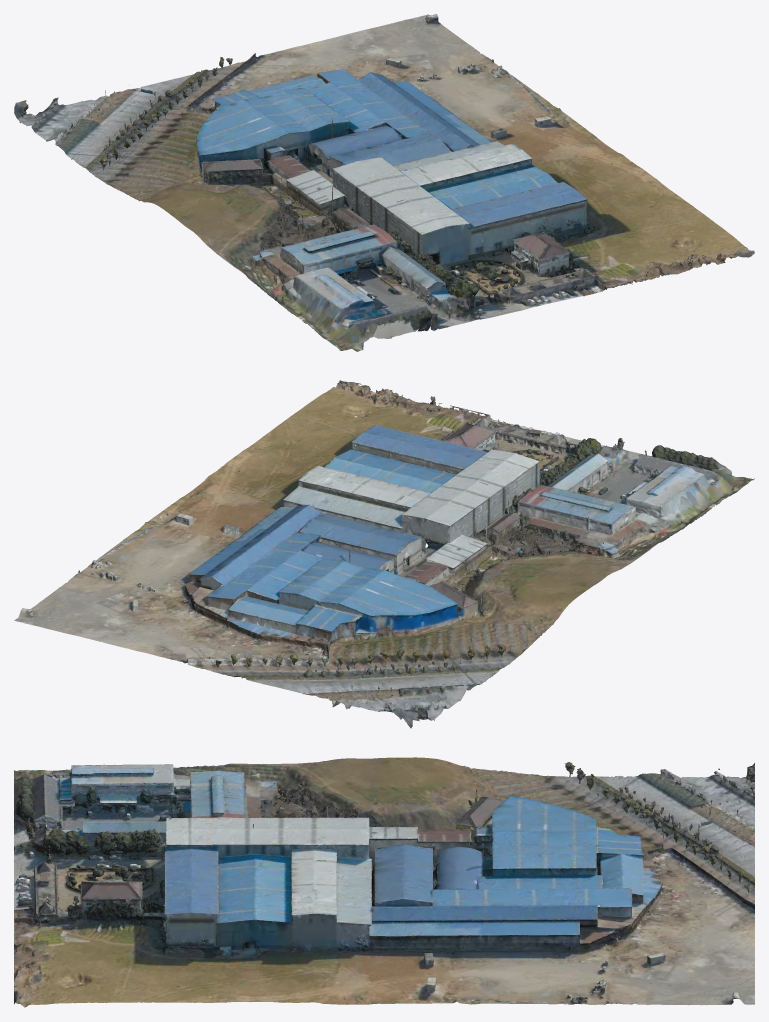
Rendered from factory_metal_processing_factory_plant.glb.
3 renders of one model, top to bottom at view 1: azimuth 30°, elevation 25°; view 2: azimuth 150°, elevation 25°; view 3: azimuth 270°, elevation 25°, orthographic. The views are drawn at different scales.
Parts seen in each view (by area): view 1: Object_2; view 2: Object_2; view 3: Object_2.
Boxes of the visible parts, bbox=[...] form: Object_2: bbox=[14, 14, 754, 351]; Object_2: bbox=[14, 380, 754, 728]; Object_2: bbox=[14, 757, 754, 1007].
Size of the model in its own units: 190 by 21.04 by 259.
1 material, 1 textured.
